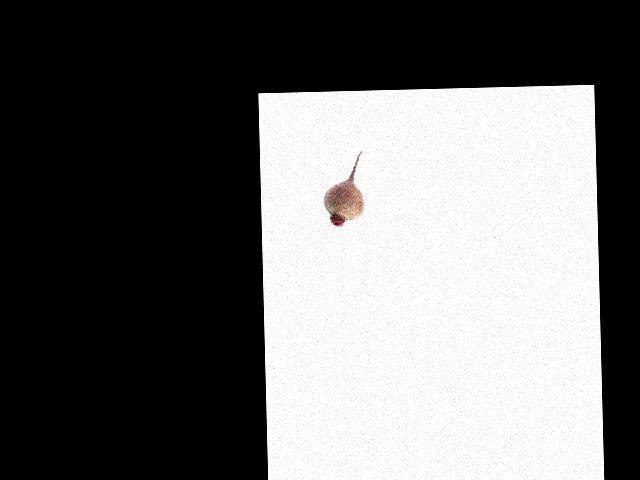beet: (321, 151, 364, 226)
